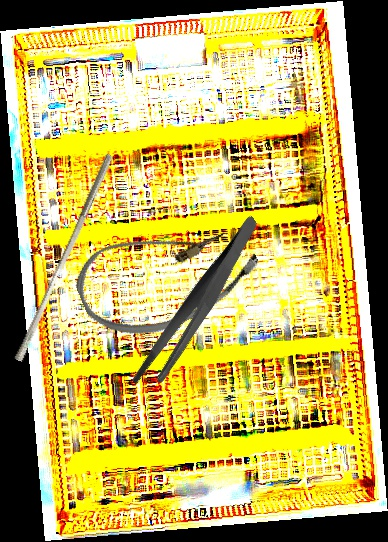Cannula: (66, 194, 269, 356)
Dressing Forceps: (100, 214, 296, 397)
Pusher: (13, 150, 114, 365)
